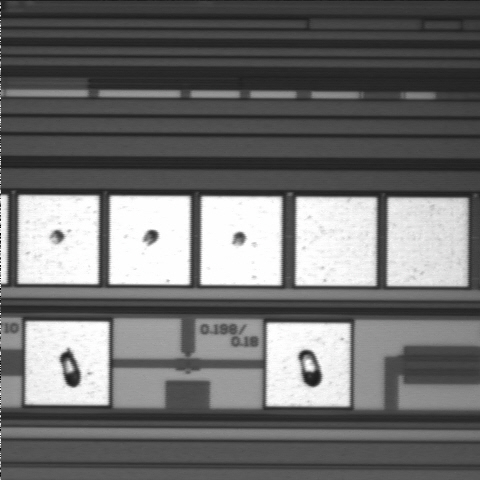pad: (18, 195, 99, 284), (109, 196, 190, 285), (201, 196, 282, 285), (296, 197, 377, 286), (387, 198, 468, 286), (25, 321, 109, 405), (266, 323, 350, 406)
